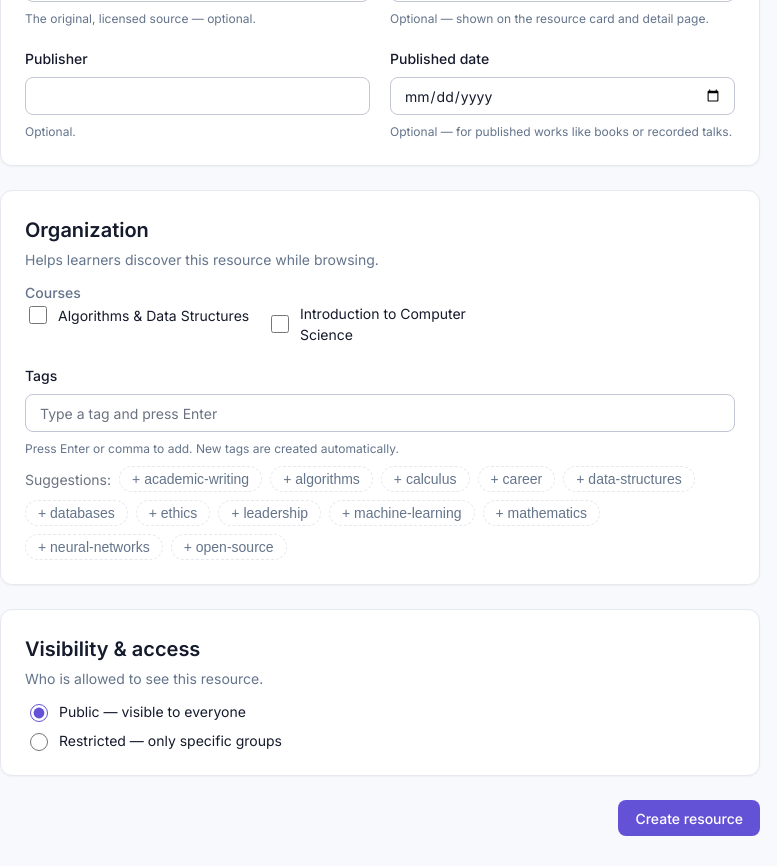
Test case: ResourceForm › shows the restricted-group picker only when visibility is RESTRICTED
The image size is (777, 866).
(page scrolled)
Expected: the text "Restricted to" is not shown
Click the radio button labelled "Restricted — only specific groups": click(39, 742) [30,733,48,751]
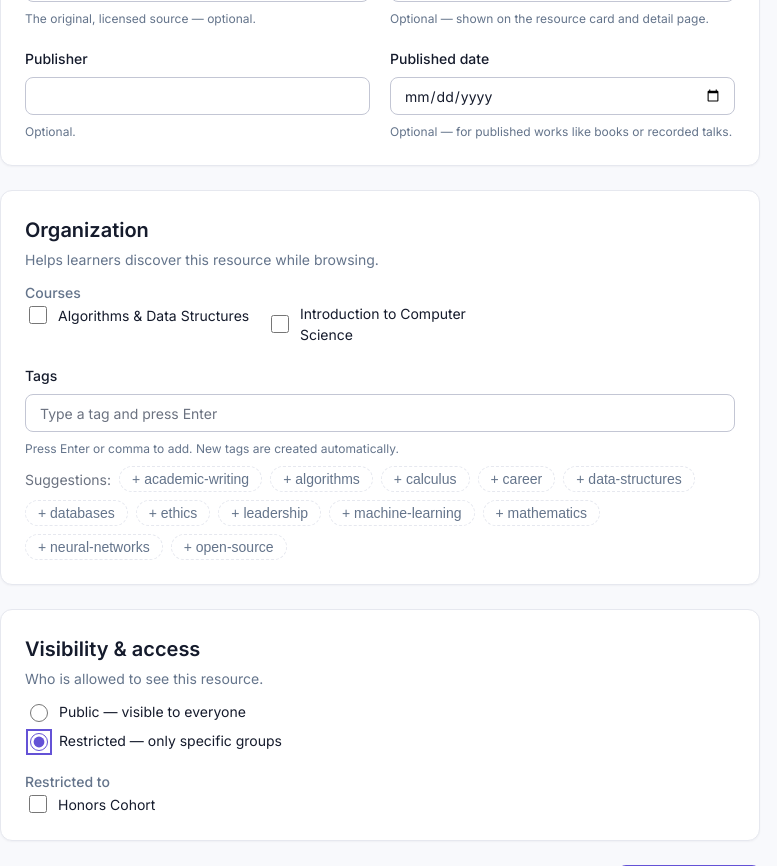
Now the text "Restricted to" is shown, box [25,771,110,792]
Now the checkbox labelled "Honors Cohort" is shown, box [29,795,47,813]
Click the radio button labelled "Public — visible to everyone": click(39, 713) [30,704,48,722]
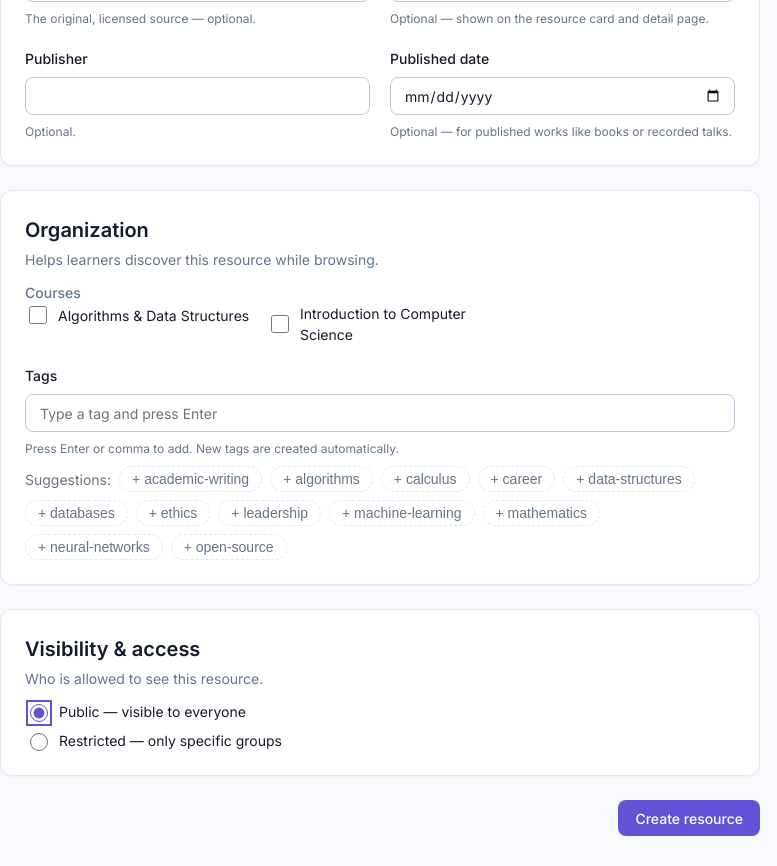
Now the text "Restricted to" is gone
